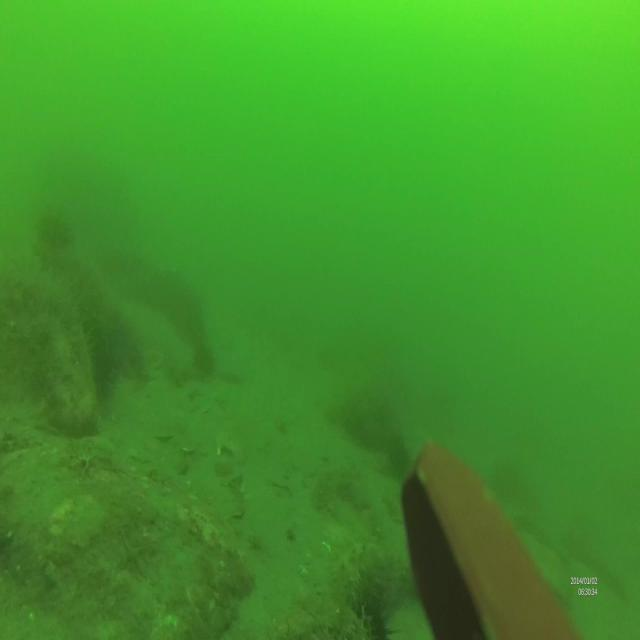echinus: (345, 590, 397, 640)
